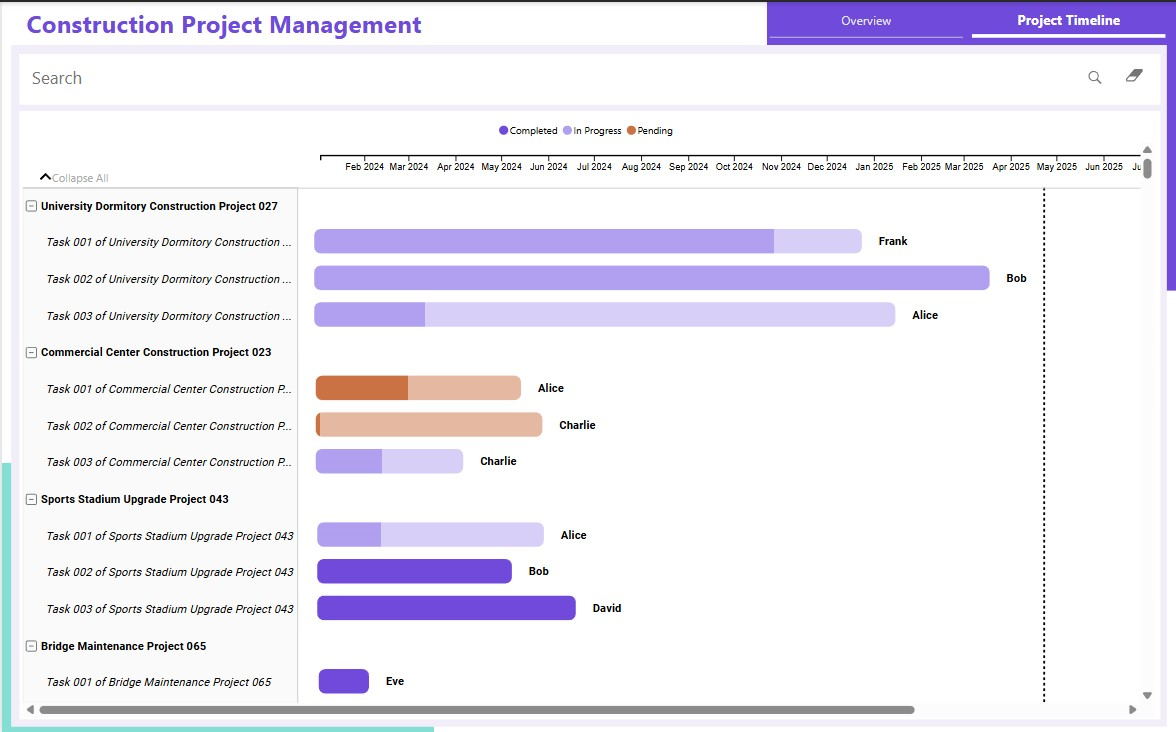

What the dashboard file says about the page in this screenshot:
{"tool":"powerbi","page":{"name":"Project Timeline","canvas":[1280,800],"ordinal":1},"visuals":[{"type":"textFilter25A4896A83E0487089E2B90C9AE57C8A","fields":{"field":["Project Management.Task Name"]},"box":[17.5,55.5,1243.8,54],"z":0},{"type":"Gantt1448688115699","fields":{"Task":["Project Management.Task Name"],"Parent":["Project Management.Project Name"],"StartDate":["Project Management.Start Date"],"Completion":["Sum(Project Management.Progress)"],"Resource":["dimProjectManager.Project Manager"],"Legend":["dimTaskStatus.Task Status"],"EndDate":["Min(Project Management.End Date)"]},"box":[17.5,121.2,1243.8,664.2],"z":1000},{"type":"textbox","box":[21.9,0,483.2,49.6],"z":2000},{"type":"pageNavigator","box":[837.1,0,432.2,39.5],"z":3000}]}

Visuals, with their boxes in screenshot pixels (x1, y1, x2, y2), scaled from the page's 1280x800 canvas onto the 1176x732 screenshot:
textFilter25A4896A83E0487089E2B90C9AE57C8A - Project Management.Task Name: [16,51,1159,100]
Gantt1448688115699 - Project Management.Task Name x Project Management.Project Name: [16,111,1159,719]
textbox: [20,0,464,45]
pageNavigator: [769,0,1166,36]
